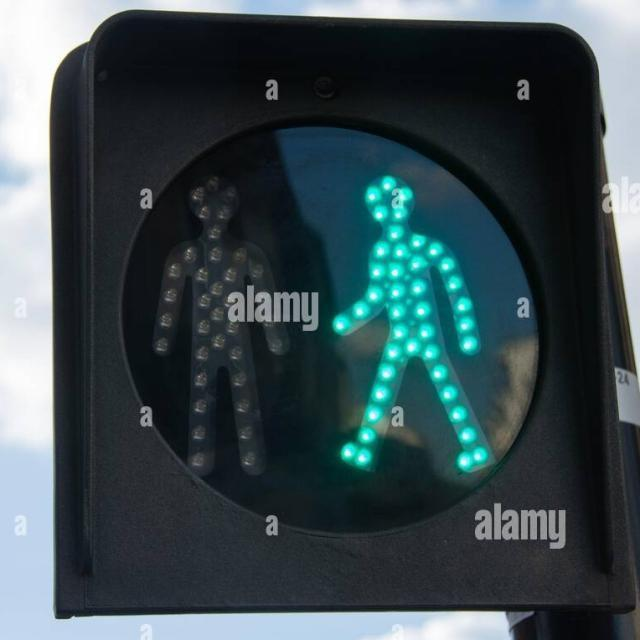geen-crossing: (326, 154, 497, 478)
